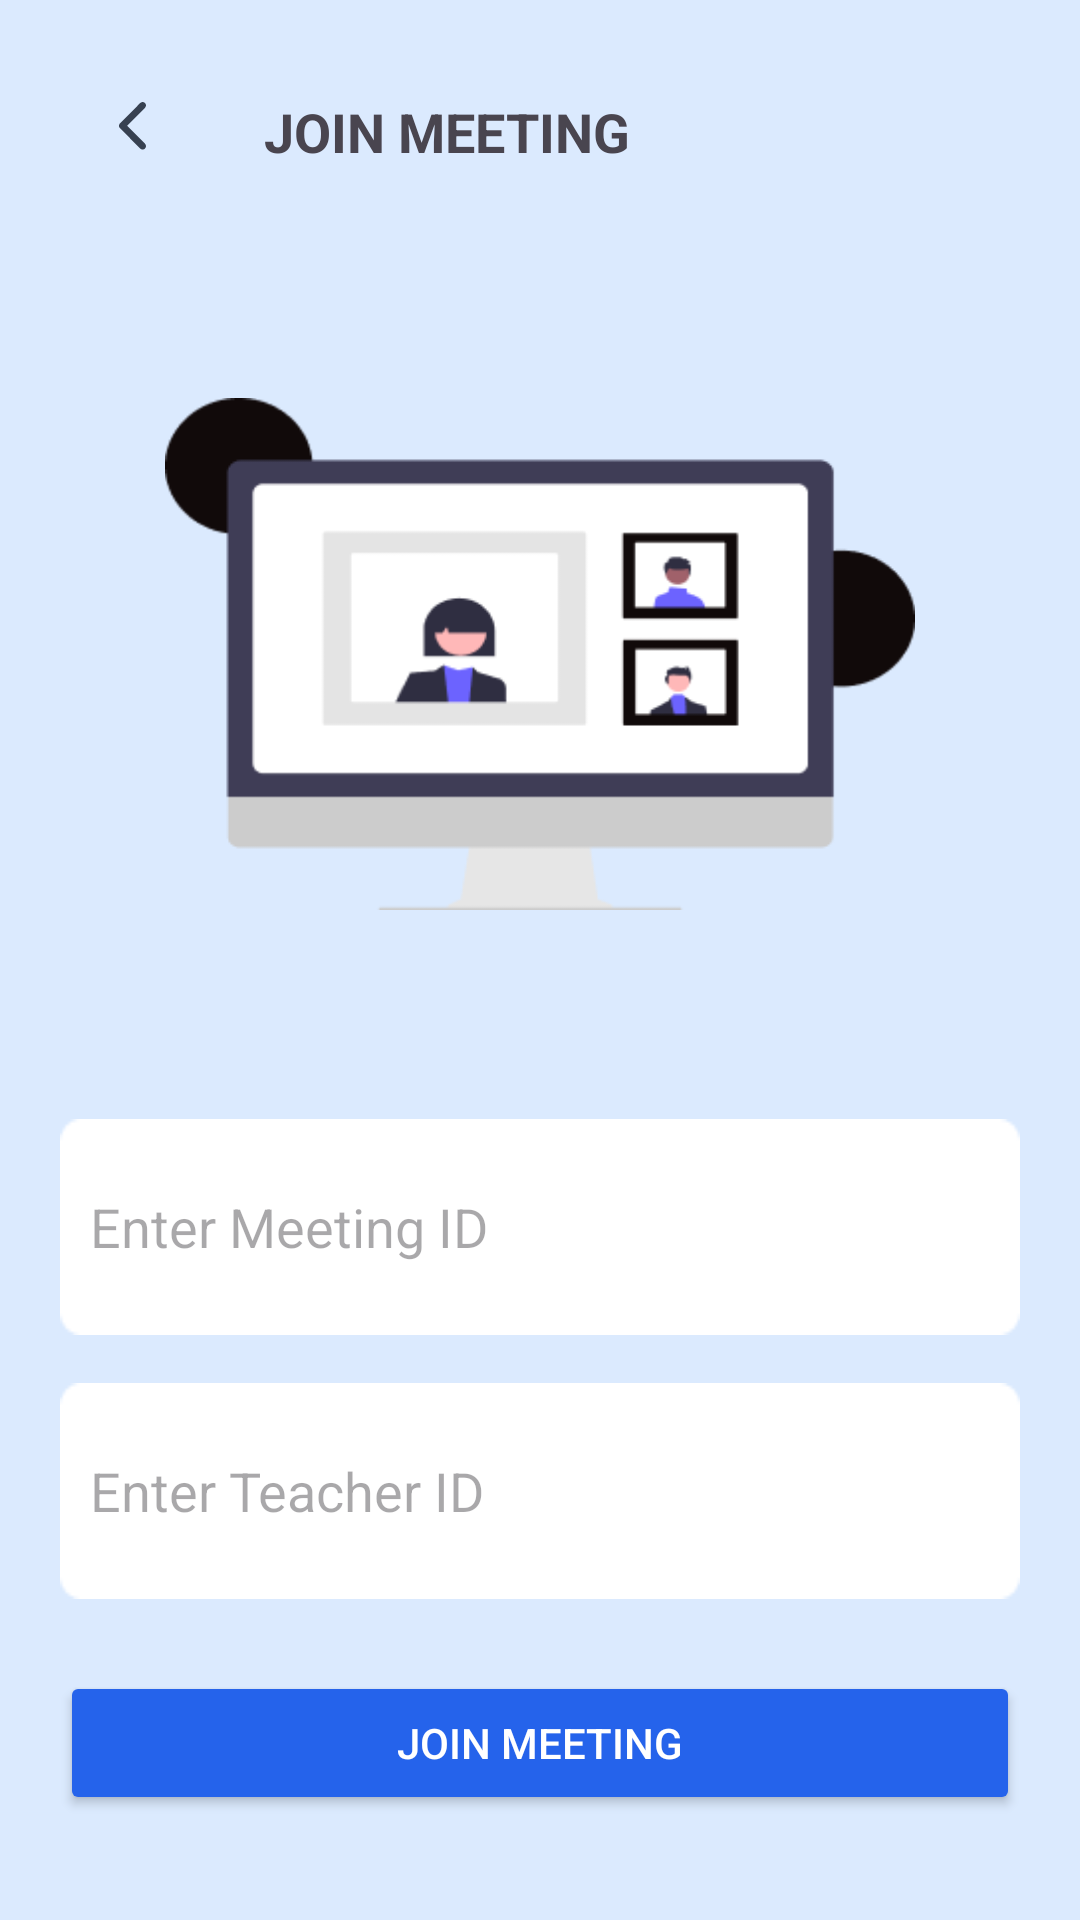

Named icons in this screenshot (1080px x 1920px) and their bounding boxes, region(x1, y1, x2, y2):
Back: region(119, 102, 146, 150)
